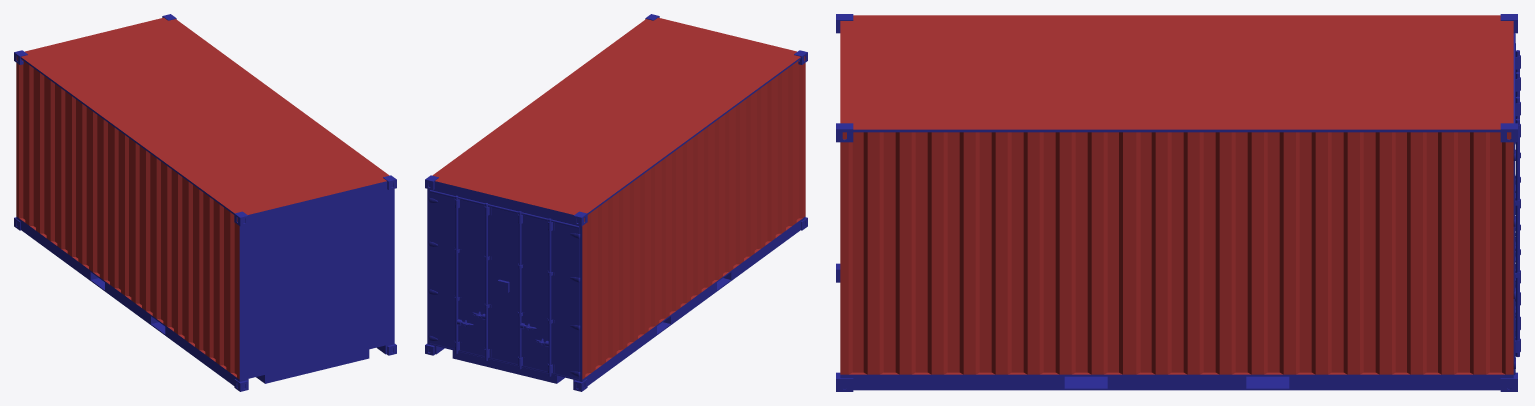
File: Container 20ft sealed.fbx
3 renders of one model, left to right at view 1: azimuth 30°, elevation 25°; view 2: azimuth 150°, elevation 25°; view 3: azimuth 270°, elevation 25°, orthographic. The views are drawn at different scales.
Parts seen in each view (by area): view 1: Container_20ft_sealed2; view 2: Container_20ft_sealed2; view 3: Container_20ft_sealed2.
Part boxes in pixels (x1,y1,x2,y2): Container_20ft_sealed2: [14, 14, 396, 391]; Container_20ft_sealed2: [425, 14, 807, 391]; Container_20ft_sealed2: [836, 14, 1520, 391].
Bounding box in the file's own units: 2.46 × 2.61 × 6.16.
